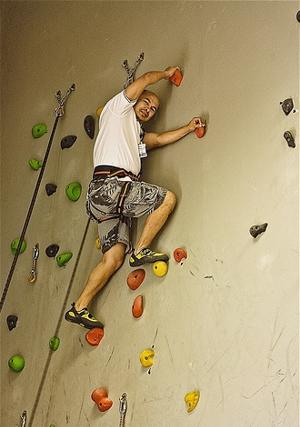person: (65, 67, 204, 330)
